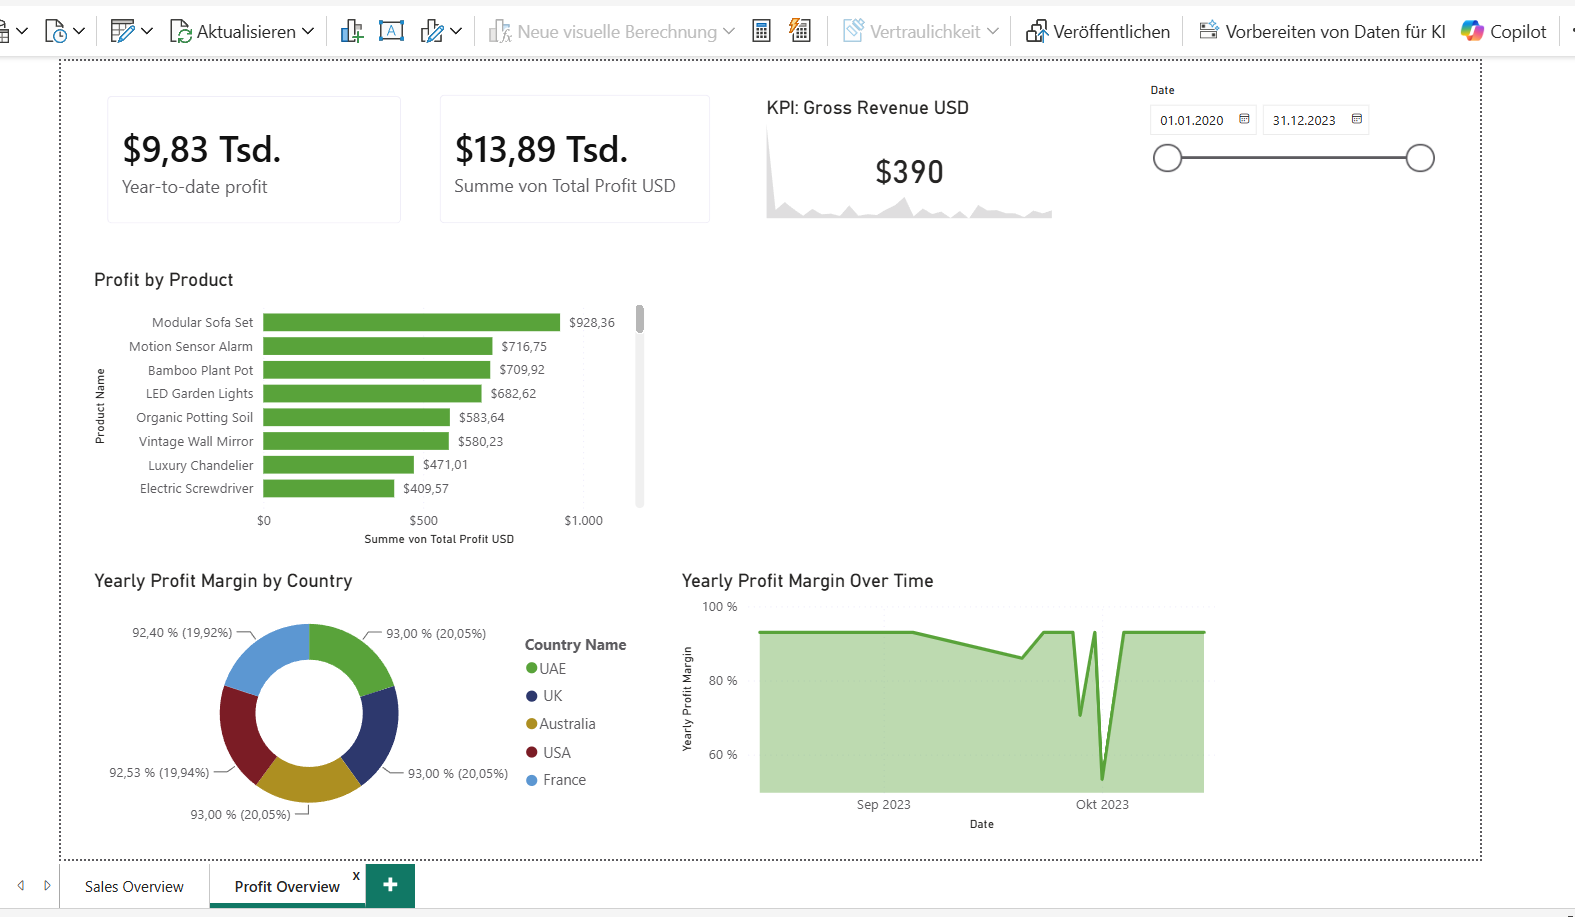

Layout of this report page (visuals, bound fields, positions):
{"tool":"powerbi","page":{"name":"Profit Overview","canvas":[1280,720],"ordinal":1},"visuals":[{"type":"clusteredBarChart","title":"Profit by Product","fields":{"Category":["Sales in USD.Product Name"],"Y":["Sum(Sales in USD.Total Profit USD)"]},"box":[24.9,186.6,506.3,255],"z":0},{"type":"donutChart","title":"Yearly Profit Margin by Country","fields":{"Category":["Sales in USD.Country Name"],"Y":["Sales in USD.Yearly Profit Margin"]},"box":[24.9,459,506.3,240.1],"z":1000},{"type":"areaChart","title":"Yearly Profit Margin Over Time","fields":{"Category":["CalenderTable.Date"],"Y":["Sales in USD.Yearly Profit Margin"]},"box":[554.8,459,506.3,240.1],"z":2000},{"type":"cardVisual","fields":{"Data":["Sales in USD.Year-to-date profit"]},"box":[24.9,14.9,299.8,149.3],"z":3000},{"type":"cardVisual","fields":{"Data":["Sum(Sales in USD.Total Profit USD)"]},"box":[325,14,278,150],"z":3001},{"type":"kpi","title":"KPI: Gross Revenue USD ","fields":{"Indicator":["Sales in USD.Total Gross Revenue USD"],"TrendLine":["CalenderTable.Date"]},"box":[630.7,31.1,267.5,115.7],"z":3002},{"type":"slicer","fields":{"Values":["CalenderTable.Date"]},"box":[969,14.9,277.4,131.9],"z":3003}]}

Visuals, with their boxes on the page's 1280x720 design canvas (x1, y1, x2, y2). These are canvas units, not pixel positions in the 1575x917 screenshot, which may show the page scaled, cropped or inside an application window:
"Profit by Product" clusteredBarChart: <region>25, 187, 531, 442</region>
"Yearly Profit Margin by Country" donutChart: <region>25, 459, 531, 699</region>
"Yearly Profit Margin Over Time" areaChart: <region>555, 459, 1061, 699</region>
cardVisual - Sales in USD.Year-to-date profit: <region>25, 15, 325, 164</region>
cardVisual - Sum(Sales in USD.Total Profit USD): <region>325, 14, 603, 164</region>
"KPI: Gross Revenue USD " kpi: <region>631, 31, 898, 147</region>
slicer - CalenderTable.Date: <region>969, 15, 1246, 147</region>
